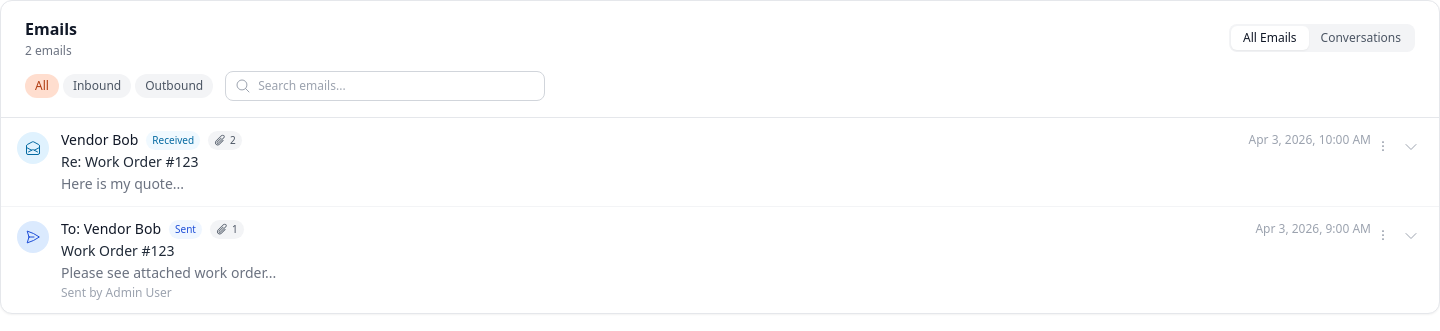
Test: EmailList › filters by direction when toggle clicked
This screenshot has width=1440, height=331.
Expected: the text "Vendor Bob" is shown, [61, 130, 138, 150]
Click "Inbound" filter
Click the button "Inbound": (97, 86) [63, 74, 131, 98]
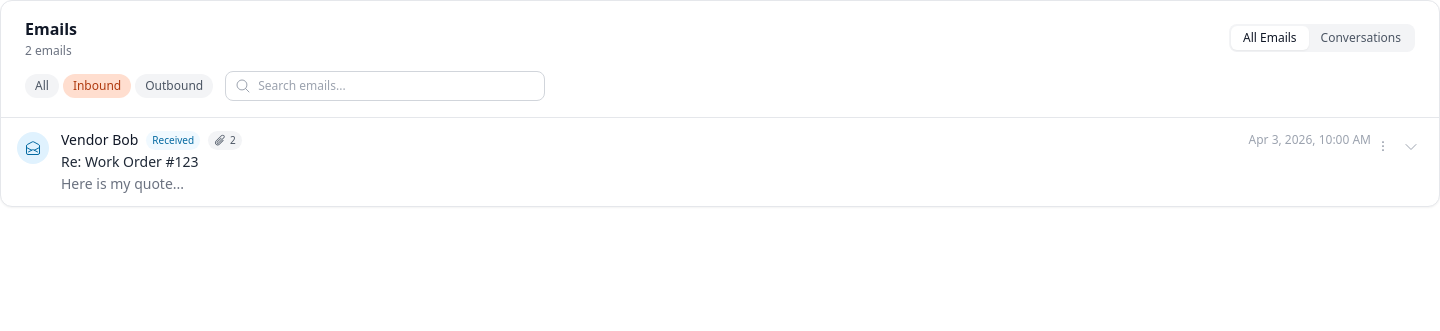
Expected: the text "Vendor Bob" is shown, [61, 130, 138, 150]
Expected: the button "To: Vendor Bob" is gone
